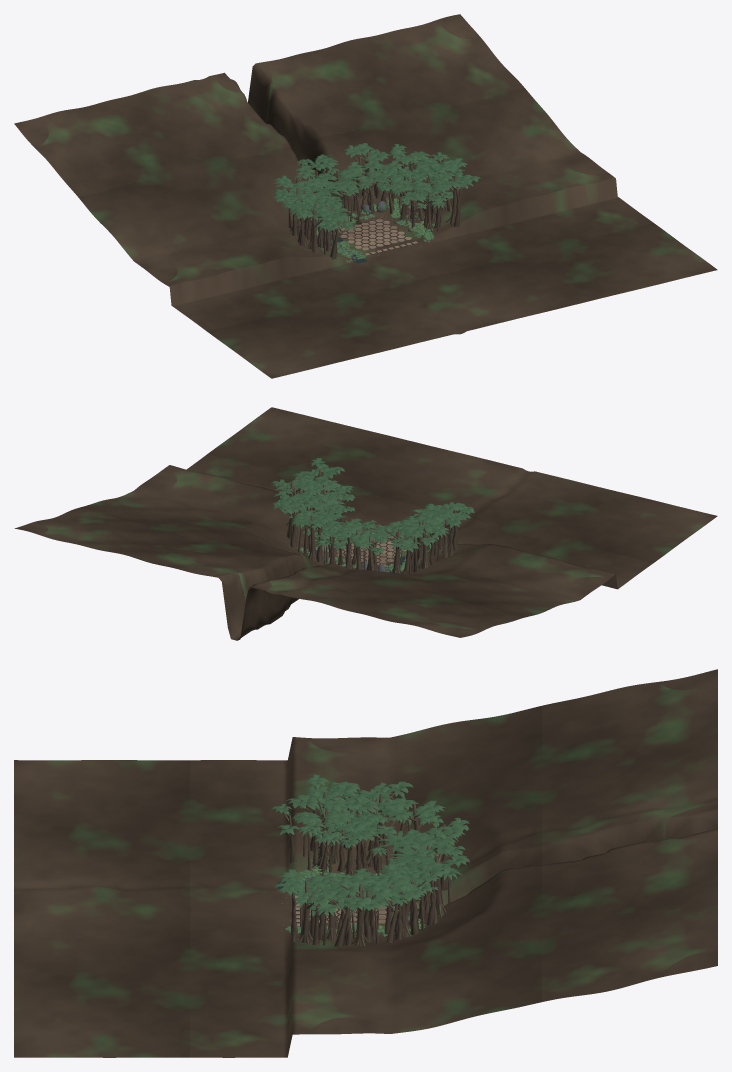
Rendered from board_mata_atlantica.glb.
The picture shows the model from 3 angles, top to bottom: view 1: azimuth 30°, elevation 25°; view 2: azimuth 150°, elevation 25°; view 3: azimuth 270°, elevation 25°; orthographic projection. The views are drawn at different scales.
Parts seen in each view (by area): view 1: Terrain_Main, Tree_Variant_A_10; view 2: Terrain_Main, Tree_Variant_A_14, Tree_Variant_A_15, Tree_Variant_A_11, Tree_Variant_A_13, Tree_Variant_A_08, Tree_Variant_B_16, Tree_Variant_A_10; view 3: Terrain_Main, Tree_Variant_A_10, Tree_Variant_A_11, Tree_Variant_A_15, Tree_Variant_A_13, Tree_Variant_A_09, Tree_Variant_A_12, Tree_Variant_A_16, Tree_Variant_A_08, Tree_Variant_A_14.
Boxes of the visible parts, x1,y1,x2,y2 form: Terrain_Main: (14, 14, 717, 378); Tree_Variant_A_10: (433, 172, 480, 226); Terrain_Main: (14, 407, 717, 640); Tree_Variant_A_14: (374, 521, 421, 573); Tree_Variant_A_15: (399, 516, 448, 569); Tree_Variant_A_11: (270, 471, 313, 524); Tree_Variant_A_13: (292, 512, 332, 561); Tree_Variant_A_08: (400, 512, 442, 566); Tree_Variant_B_16: (335, 520, 376, 569); Tree_Variant_A_10: (297, 458, 344, 491); Terrain_Main: (14, 669, 717, 1057); Tree_Variant_A_10: (273, 869, 333, 943); Tree_Variant_A_11: (326, 872, 389, 947); Tree_Variant_A_15: (352, 781, 413, 857); Tree_Variant_A_13: (405, 839, 469, 918); Tree_Variant_A_09: (295, 790, 354, 871); Tree_Variant_A_12: (374, 863, 433, 938); Tree_Variant_A_16: (294, 782, 359, 856); Tree_Variant_A_08: (341, 791, 405, 868); Tree_Variant_A_14: (384, 798, 445, 860).
Bounding box in the file's own units: 116 × 17.24 × 116.
21 materials, 3 textured.
